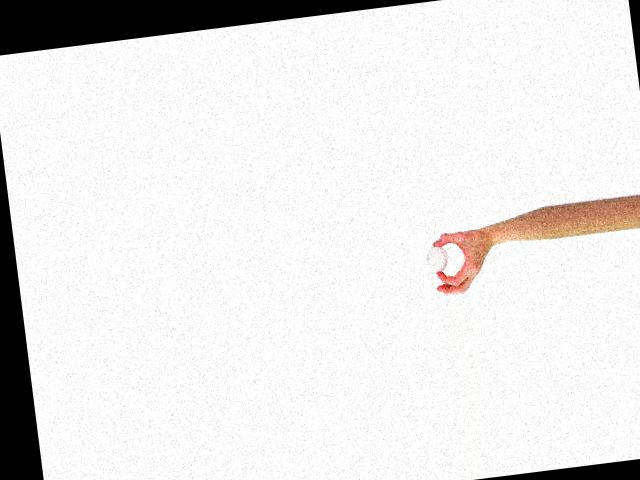egg: (425, 244, 449, 273)
